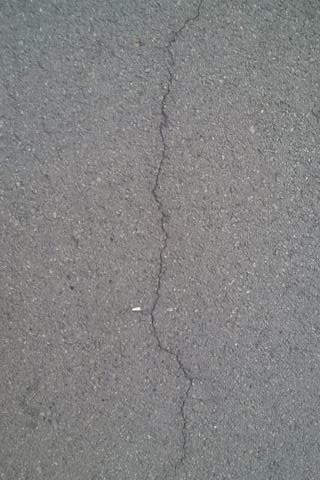A: (149, 4, 199, 479)
